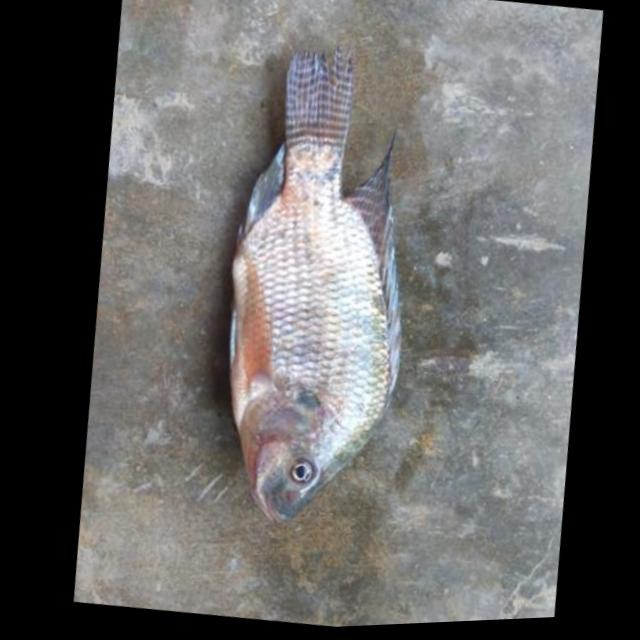Tilapia: (180, 34, 455, 540)
